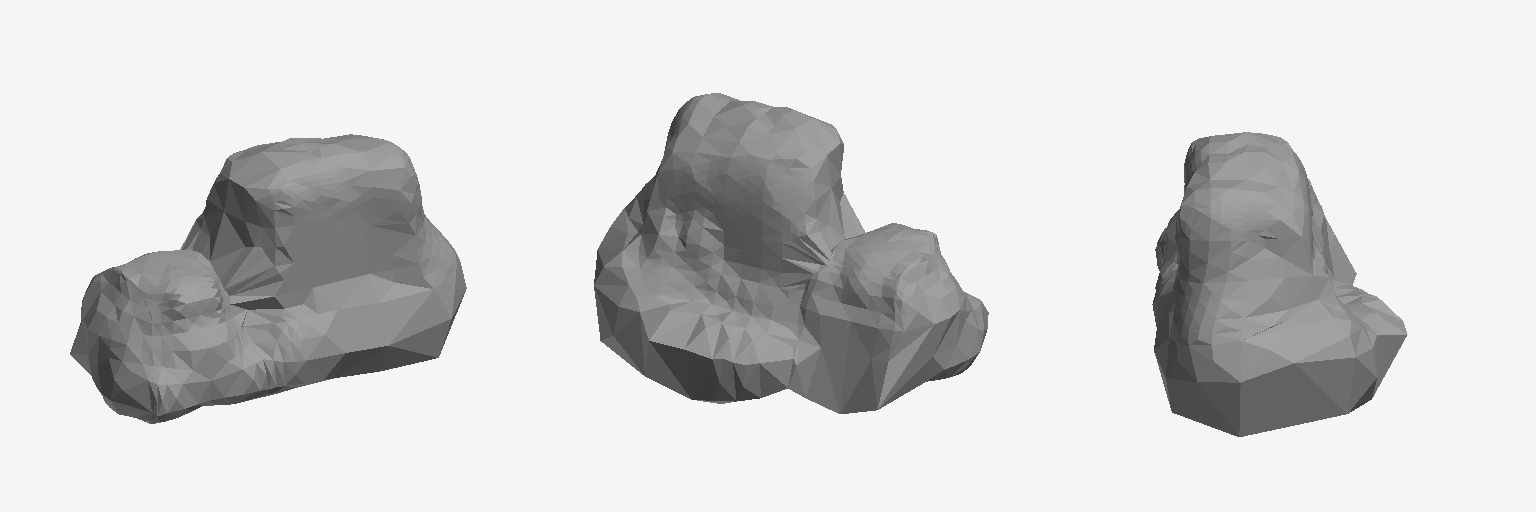
Rendered from boulder.obj.
3 views of the same model, side by side, from view 1: azimuth 30°, elevation 25°; view 2: azimuth 150°, elevation 25°; view 3: azimuth 270°, elevation 25° (orthographic).
Parts seen in each view (by area): view 1: Cube; view 2: Cube; view 3: Cube.
Boxes of the visible parts, x1=… form: Cube: x1=70, y1=134, x2=466, y2=423; Cube: x1=594, y1=93, x2=988, y2=413; Cube: x1=1152, y1=132, x2=1407, y2=436.
Bounding box in the file's own units: 6.46 × 4.13 × 3.99.